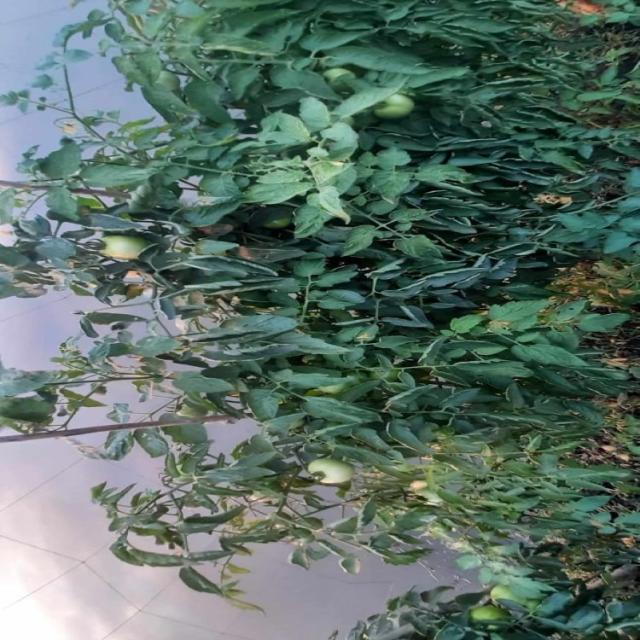tomato: (308, 458, 351, 497), (378, 89, 417, 125), (491, 584, 531, 614), (107, 234, 150, 260), (474, 611, 509, 630), (325, 68, 358, 86)
